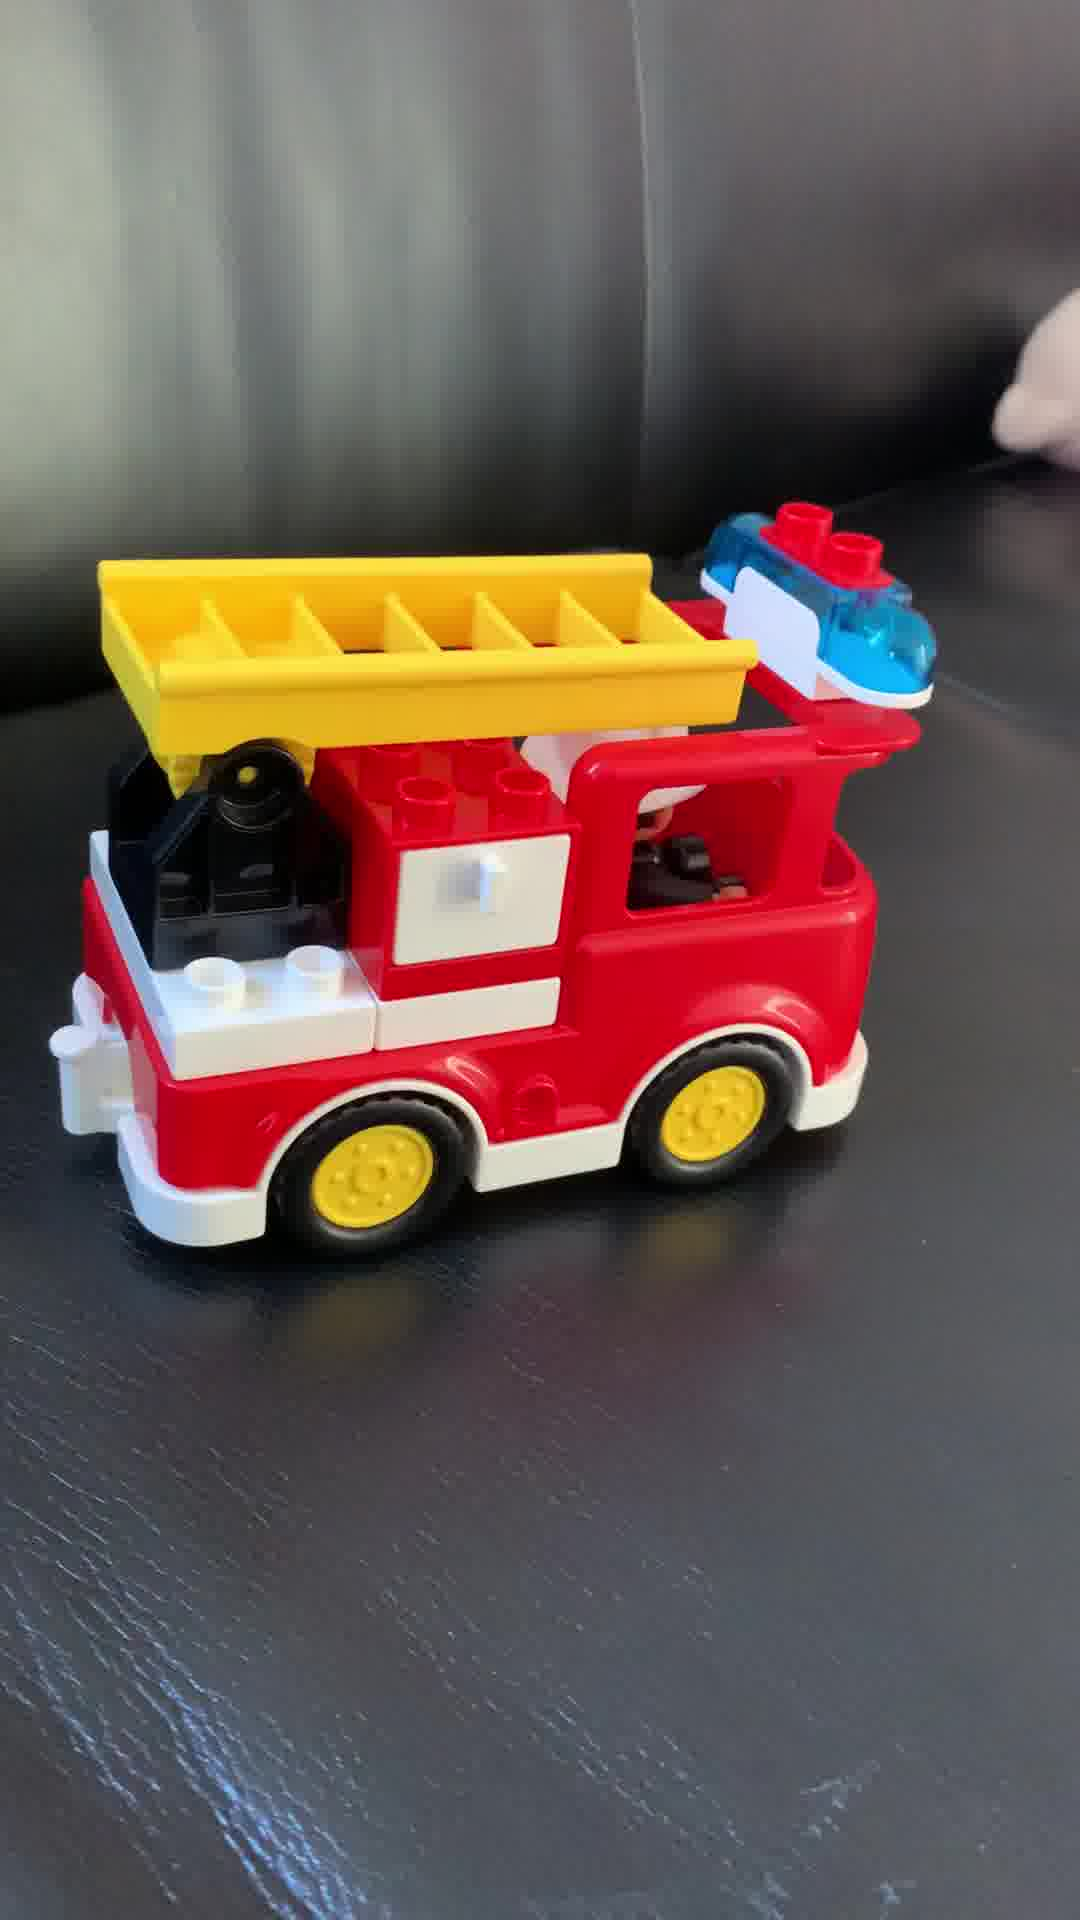lego fire truck: (51, 495, 949, 1257)
